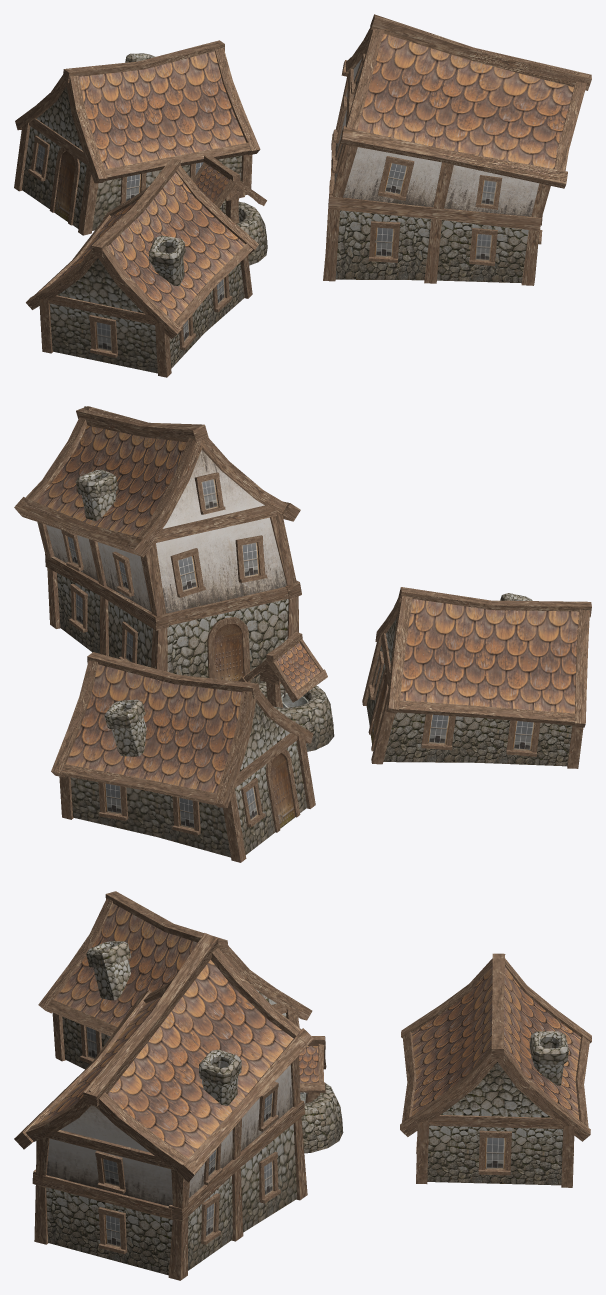
Rendered from Houses.fbx.
3 views of the same model, one above another, from view 1: azimuth 30°, elevation 25°; view 2: azimuth 150°, elevation 25°; view 3: azimuth 270°, elevation 25° (orthographic). The views are drawn at different scales.
Parts seen in each view (by area): view 1: Circle; view 2: Circle; view 3: Circle.
Boxes of the visible parts, <box> form: Circle: <box>14,14,591,377</box>; Circle: <box>14,406,591,862</box>; Circle: <box>14,891,591,1280</box>.
Bounding box in the file's own units: 930 × 406 × 771.
